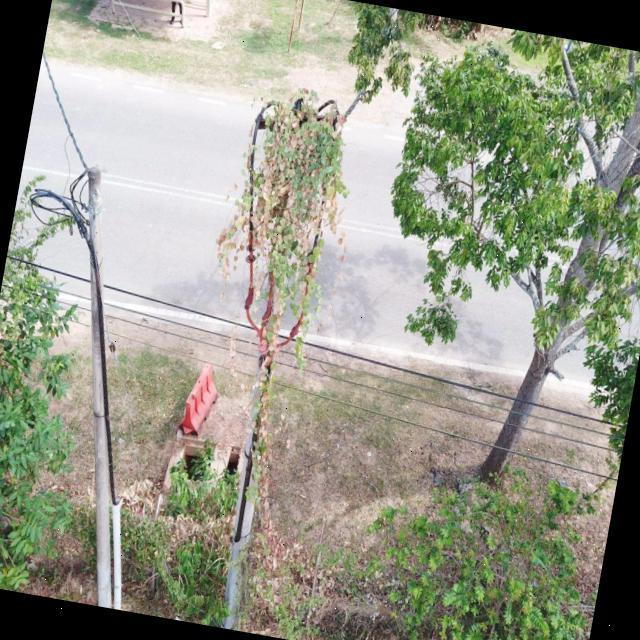critical vegetation: (173, 66, 377, 493)
